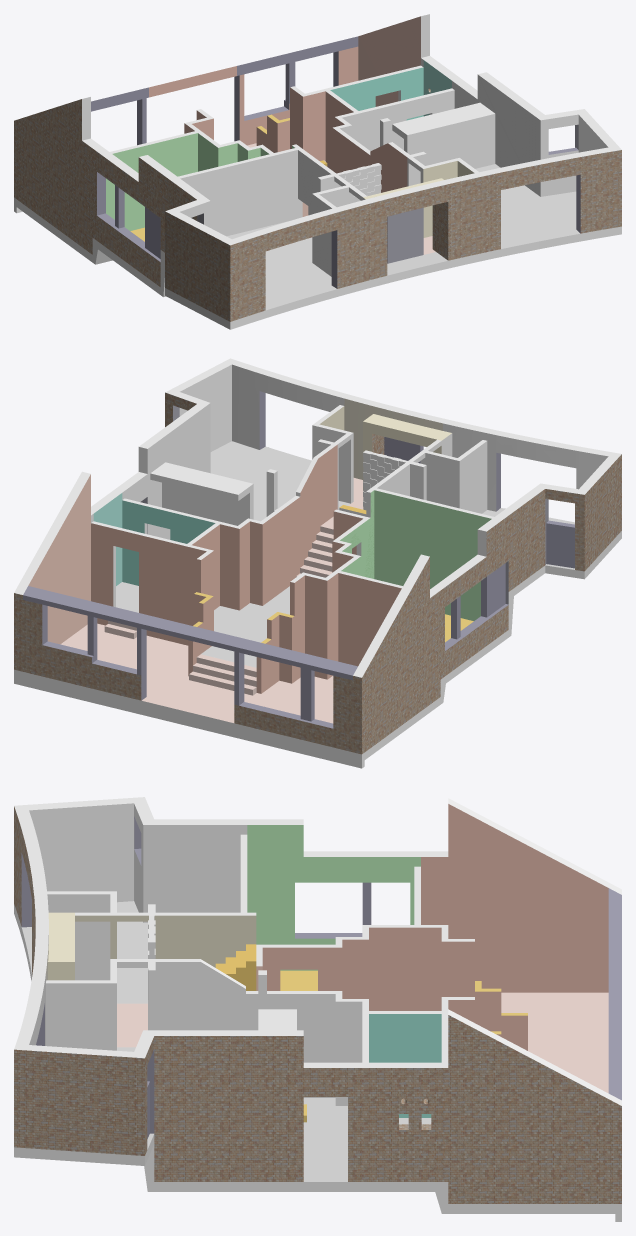
The picture shows the model from 3 angles, top to bottom: view 1: azimuth 30°, elevation 25°; view 2: azimuth 150°, elevation 25°; view 3: azimuth 270°, elevation 25°; orthographic projection. The views are drawn at different scales.
Parts seen in each view (by area): view 1: 00_BG; view 2: 00_BG; view 3: 00_BG.
Boxes of the visible parts, x1=… form: 00_BG: x1=14, y1=14, x2=621, y2=329; 00_BG: x1=14, y1=358, x2=621, y2=768; 00_BG: x1=14, y1=797, x2=621, y2=1221.
Size of the model in its own units: 0.14 by 0.1377 by 0.0517.
Materials: 28 (2 with a texture image).
